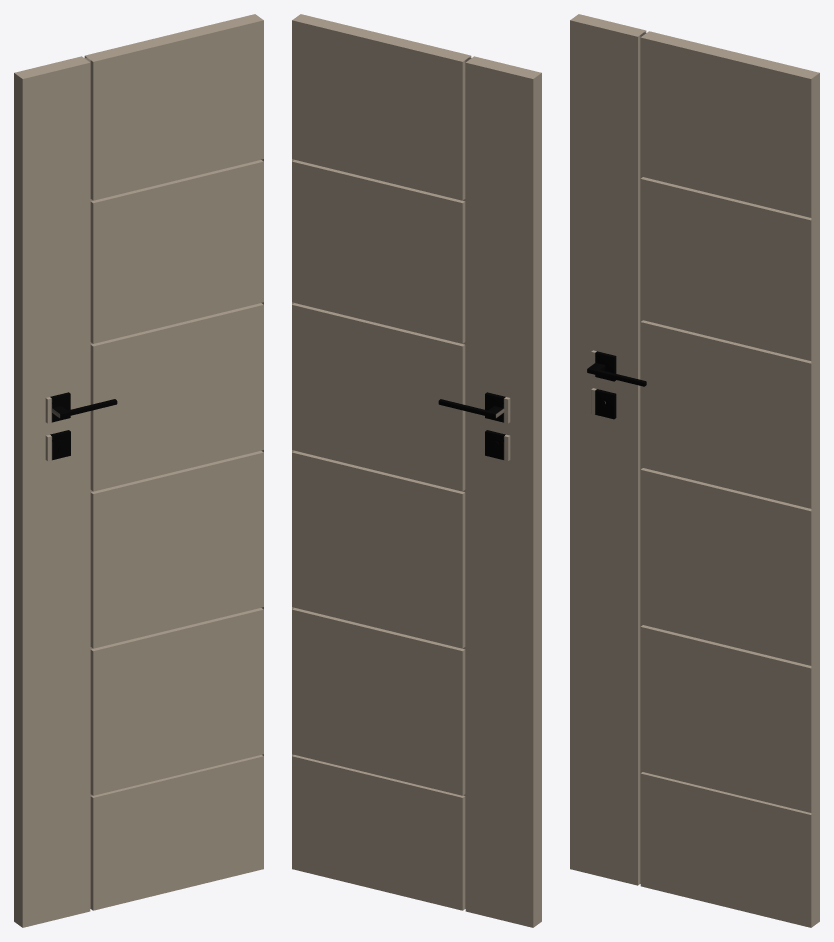
Rendered from SC_3_full1_door.glb.
The picture shows the model from 3 angles, left to right: view 1: azimuth 30°, elevation 25°; view 2: azimuth 150°, elevation 25°; view 3: azimuth 330°, elevation 25°; orthographic projection.
Visible parts, largest first — view 1: SC_3__1_door_; view 2: SC_3__1_door_; view 3: SC_3__1_door_.
Boxes of the visible parts, <box> form: SC_3__1_door_: <box>14,14,263,927</box>; SC_3__1_door_: <box>292,14,541,927</box>; SC_3__1_door_: <box>570,14,819,927</box>.
Bounding box in the file's own units: 0.523 × 1.76 × 0.1089.
1 material, 1 textured.
